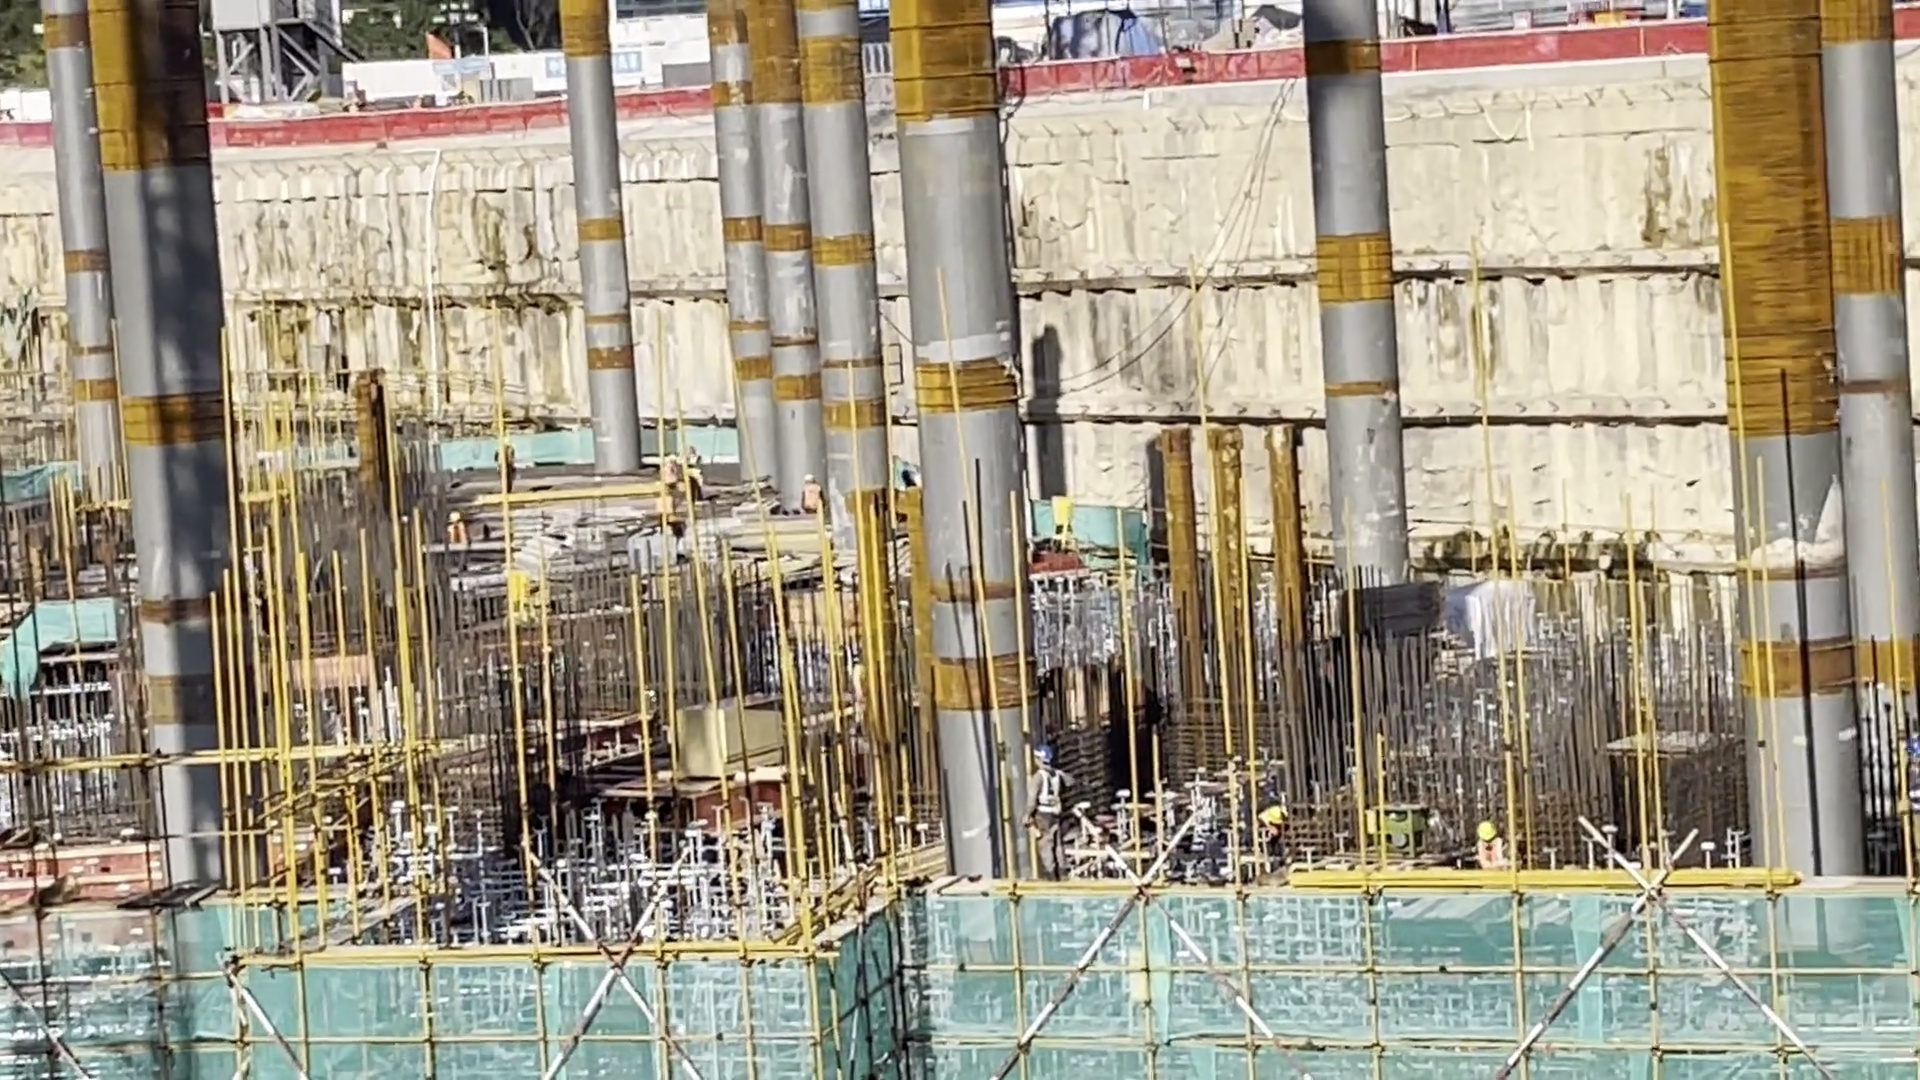helmet: (1476, 822, 1497, 841), (1033, 747, 1051, 763)
person: (1024, 746, 1069, 879), (1468, 823, 1503, 869)
vest: (1035, 766, 1059, 814)
